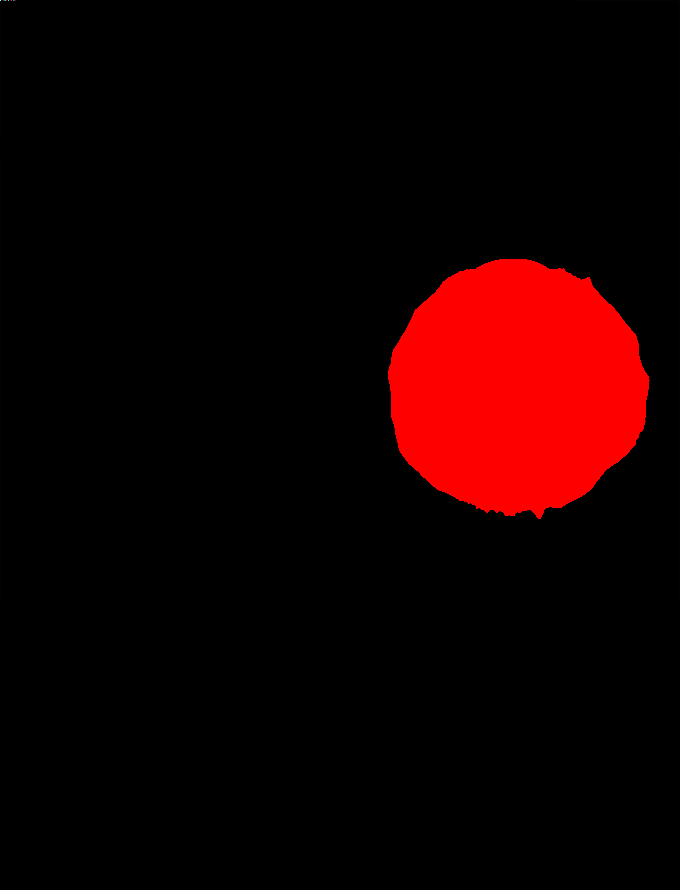stamp: (377, 252, 651, 518)
